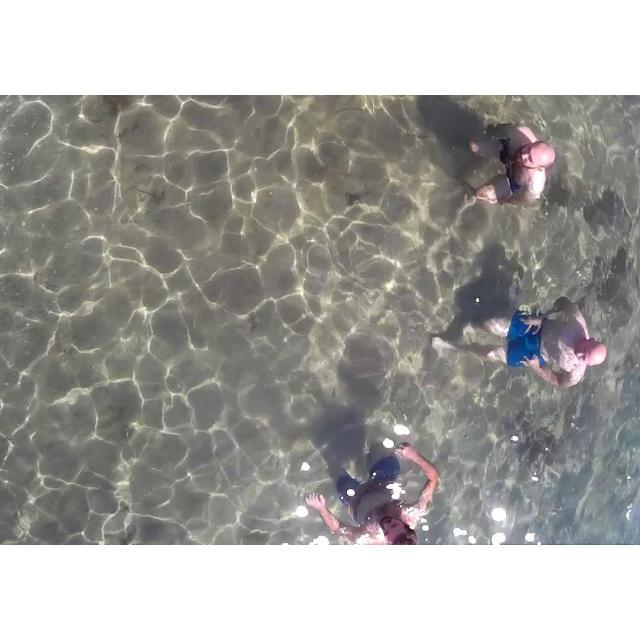human: (462, 275, 606, 403), (462, 99, 556, 232)
